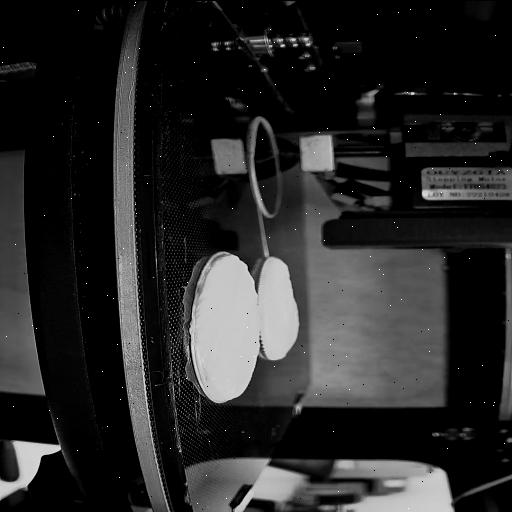over_extrusion: (206, 250, 236, 270)
